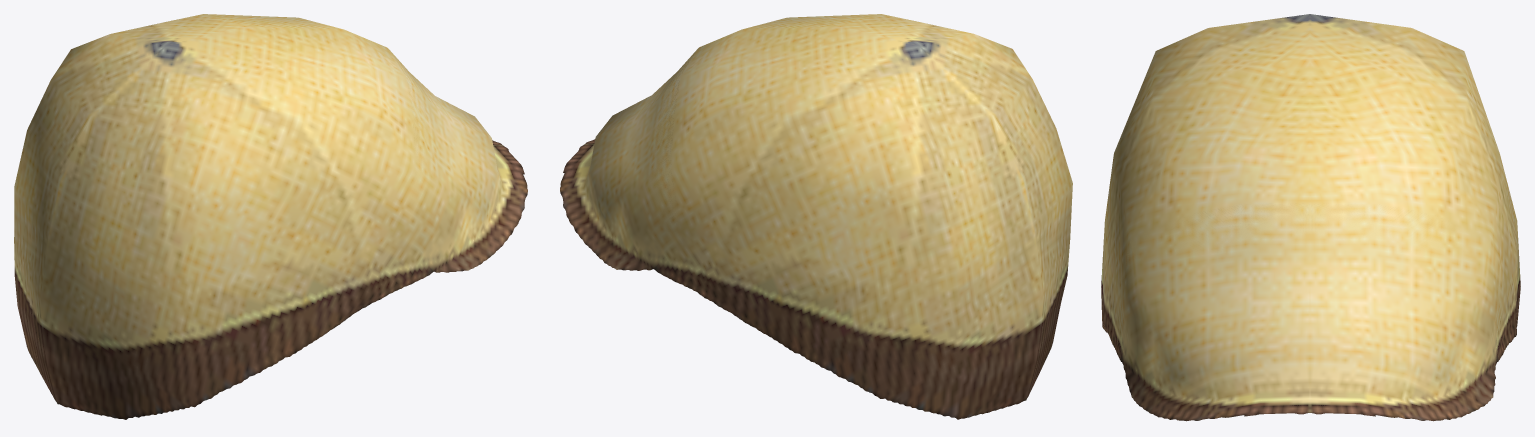
Rendered from hat_0450031.FBX.
3 views of the same model, side by side, from view 1: azimuth 30°, elevation 25°; view 2: azimuth 150°, elevation 25°; view 3: azimuth 270°, elevation 25° (orthographic). The views are drawn at different scales.
Parts seen in each view (by area): view 1: hat_0450031; view 2: hat_0450031; view 3: hat_0450031.
Part boxes in pixels (x1,y1,x2,y2): hat_0450031: [14, 14, 527, 419]; hat_0450031: [560, 14, 1072, 419]; hat_0450031: [1101, 14, 1520, 421].
Bounding box in the file's own units: 29.09 × 20.18 × 19.8.
